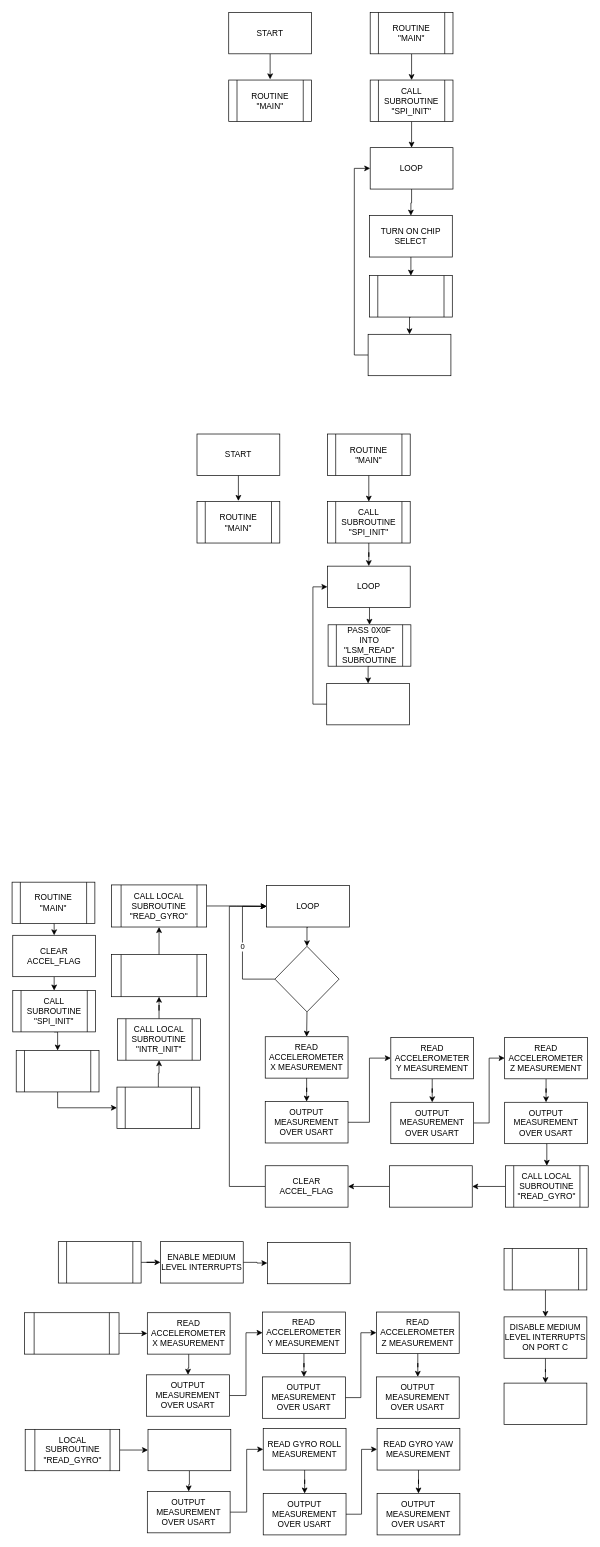
Image size: 600x1547. Some labels were removed from this diagram. Here are the shapes that lost their labels. From the top down, the box of each, then its label:
(369, 275, 452, 317): PASS "0X2A" TO SUBROUTINE "SPI_WRITE"
(367, 334, 451, 376): TURN OFF CHIP SELECT
(326, 683, 410, 725): READ VALUE INTO TEMP VARIABLE
(111, 954, 207, 997): CALL LOCAL SUBROUTINE "WAKEUP_ACCEL"
(274, 946, 339, 1012): ACCEL_FLAG
(16, 1050, 99, 1092): CALL OUTSIDE SUBROUTINE "USARTD0_INIT"
(116, 1086, 200, 1128): CALL OUTSIDE SUBROUTINE "LSM_INIT"
(389, 1165, 472, 1207): REENABLE INTERRUPTS ON PORT C
(58, 1241, 141, 1283): LOCAL SUBROUTINE "INTR_INIT"
(267, 1242, 350, 1284): ENABLE GLOBAL INTERRUPTS
(503, 1248, 587, 1290): PORT C LEVEL 0 ISR
(24, 1312, 119, 1354): LOCAL SUBROUTINE "WAKEUP_ACCEL"
(503, 1382, 587, 1425): SET ACCEL_FLAG TO 1
(147, 1429, 231, 1471): READ GYRO PITCH MEASUREMENT
